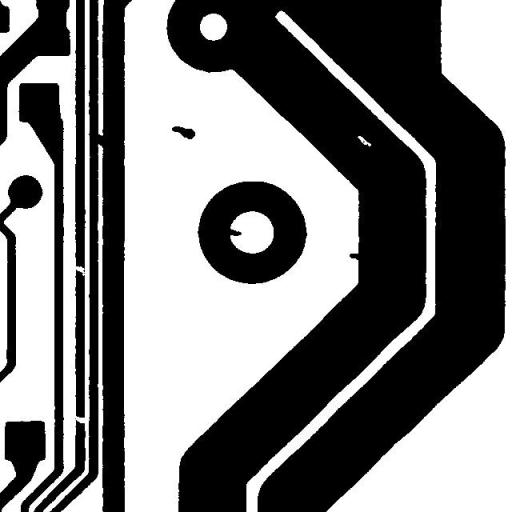copper: (164, 118, 202, 146)
open: (64, 406, 94, 430), (67, 258, 92, 284)
pin-hole: (350, 128, 378, 154)
short: (87, 126, 114, 154)
spur: (218, 221, 249, 243), (342, 246, 370, 267)
